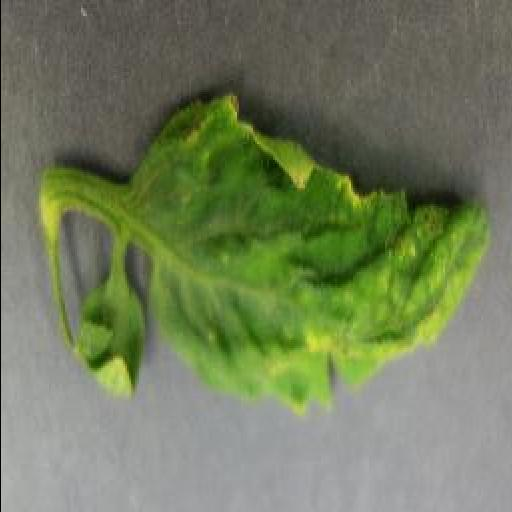disease_tomato: (129, 92, 491, 418)
